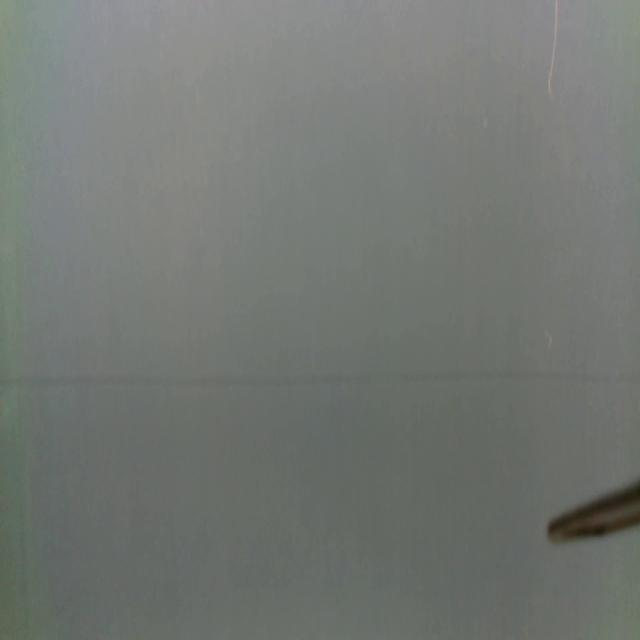color bleeding: (0, 365, 640, 394)
